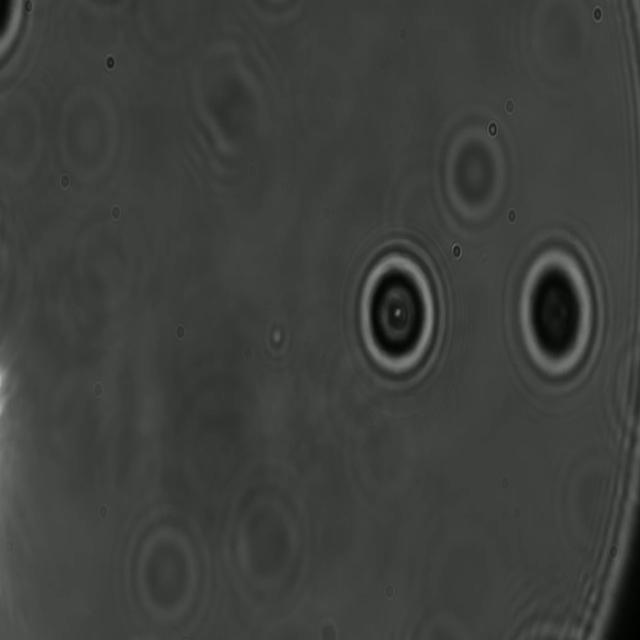DCELL: (500, 220, 612, 403)
LCELL: (346, 230, 450, 398)
